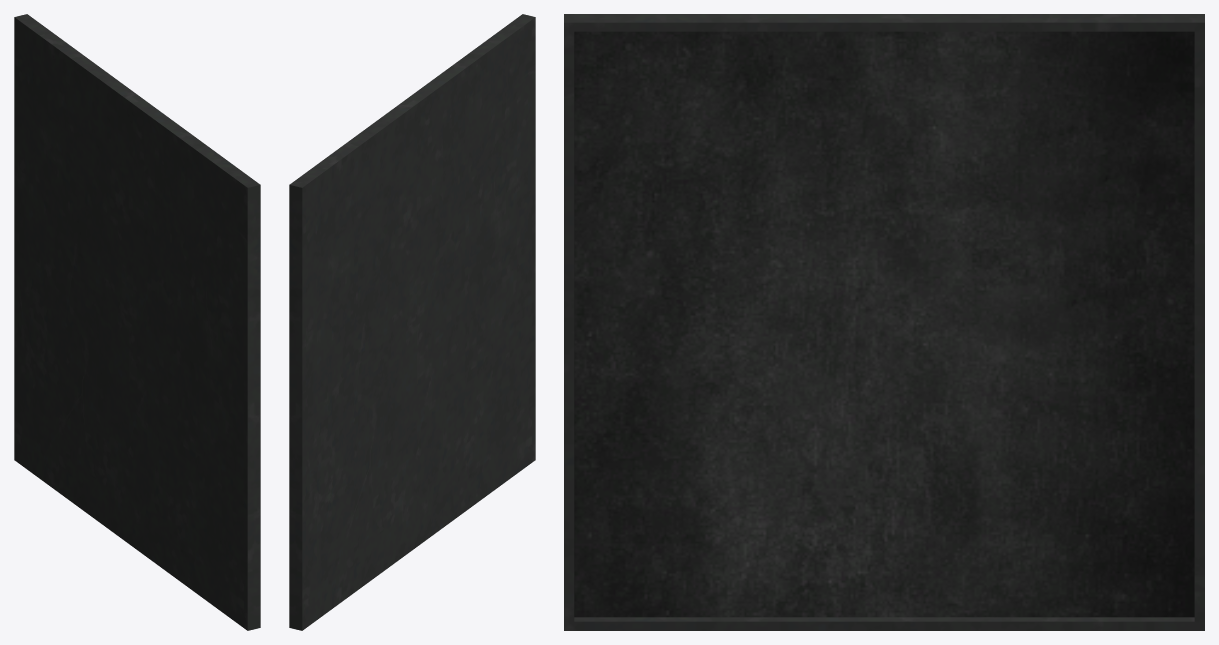
The model's file is poster_colors.vmf.obj.
The picture shows the model from 3 angles, left to right: view 1: azimuth 30°, elevation 25°; view 2: azimuth 150°, elevation 25°; view 3: azimuth 270°, elevation 25°; orthographic projection. The views are drawn at different scales.
Visible parts, largest first — view 1: 4, 7, 5, 3, 6; view 2: 4, 3, 5, 7, 6; view 3: 4, 5, 6, 3, 7.
Boxes of the visible parts, x1,y1,x2,y2 form: 4: (18,26,243,621); 7: (244,182,260,630); 5: (18,16,256,191); 3: (14,14,30,462); 6: (18,456,243,627); 4: (306,26,531,621); 3: (289,182,305,630); 5: (293,16,531,191); 7: (519,14,535,462); 6: (306,456,531,627); 4: (574,31,1194,617); 5: (574,14,1194,31); 6: (574,617,1194,630); 3: (1194,14,1204,630); 7: (564,14,574,630).
Bounding box in the file's own units: 2 × 66 × 63.
Materials: 3 (3 with a texture image).
